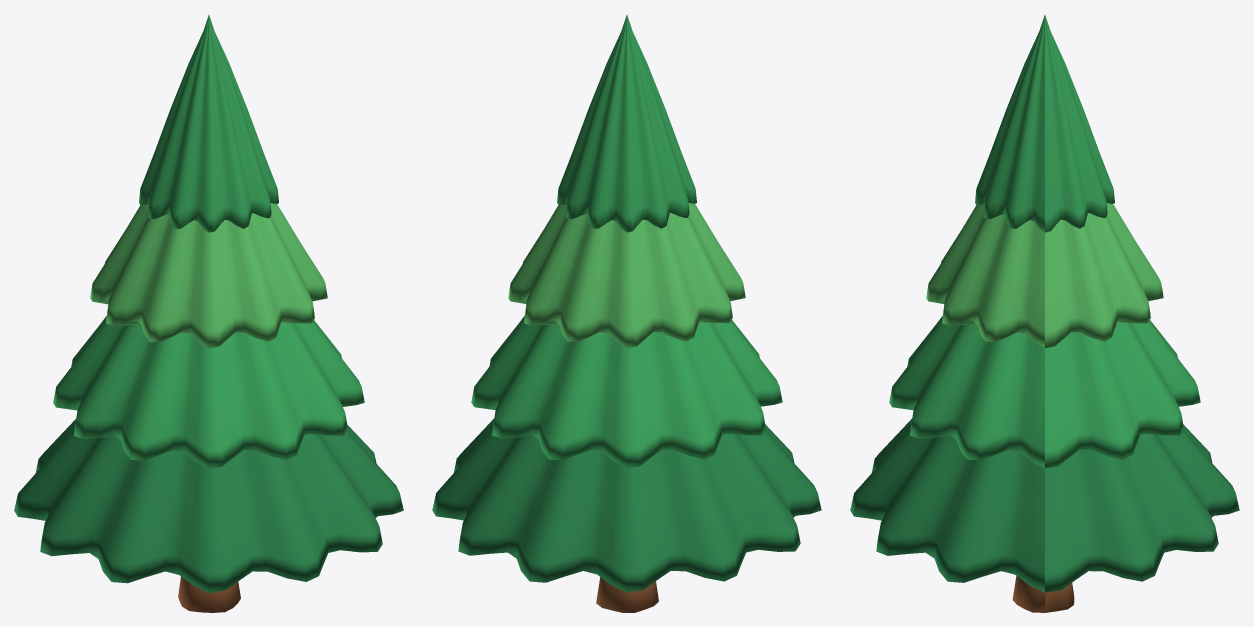
Rendered from pino.glb.
3 renders of one model, left to right at view 1: azimuth 30°, elevation 25°; view 2: azimuth 150°, elevation 25°; view 3: azimuth 270°, elevation 25°, orthographic.
Parts seen in each view (by area): view 1: Pino_verde, Pino_verde_profundo, Pino_verde_claro, Madera_canela; view 2: Pino_verde, Pino_verde_profundo, Pino_verde_claro, Madera_canela; view 3: Pino_verde, Pino_verde_profundo, Pino_verde_claro, Madera_canela.
Boxes of the visible parts, x1=… form: Pino_verde: x1=53, y1=15, x2=364, y2=468; Pino_verde_profundo: x1=14, y1=419, x2=403, y2=592; Pino_verde_claro: x1=90, y1=203, x2=327, y2=348; Madera_canela: x1=178, y1=576, x2=240, y2=612; Pino_verde: x1=471, y1=15, x2=782, y2=468; Pino_verde_profundo: x1=432, y1=418, x2=821, y2=592; Pino_verde_claro: x1=508, y1=203, x2=745, y2=348; Madera_canela: x1=596, y1=577, x2=658, y2=612; Pino_verde: x1=889, y1=15, x2=1200, y2=468; Pino_verde_profundo: x1=850, y1=418, x2=1239, y2=592; Pino_verde_claro: x1=926, y1=203, x2=1163, y2=348; Madera_canela: x1=1012, y1=576, x2=1074, y2=612.
Size of the model in its own units: 2.14 by 3.56 by 2.14.
